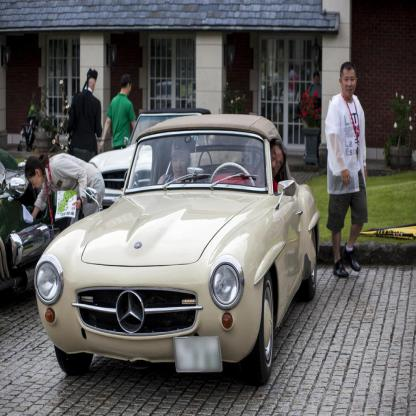Car: (34, 114, 321, 386), (87, 108, 211, 208)
